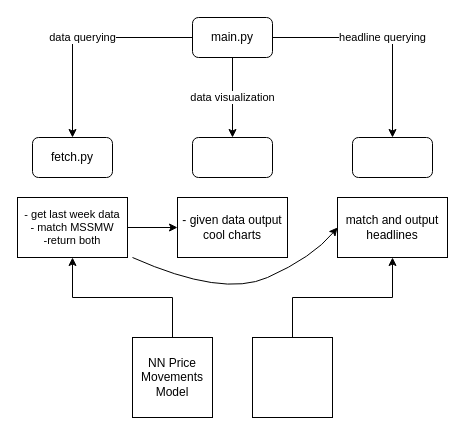
Some shapes in this 465 by 435 pixel diagram are drawn without their labels. The shapes that lost their labels are listed below. From the top down, each one's box as (x1, y1, x2, y2) in pixels, then its label:
(192, 136, 272, 178): plotter.py
(352, 136, 432, 178): headline.py
(252, 336, 332, 418): ??? Headline Clustering Model
